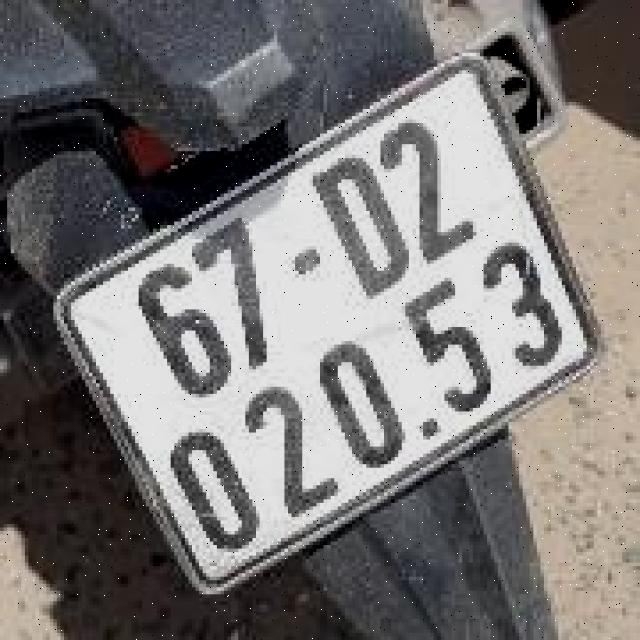0: (306, 324, 427, 489), (155, 415, 276, 563)
2: (369, 107, 493, 278), (225, 367, 356, 527)
3: (470, 229, 582, 389)
5: (386, 267, 514, 431)
6: (120, 255, 246, 413)
7: (178, 206, 303, 380)
D: (298, 134, 427, 309)
